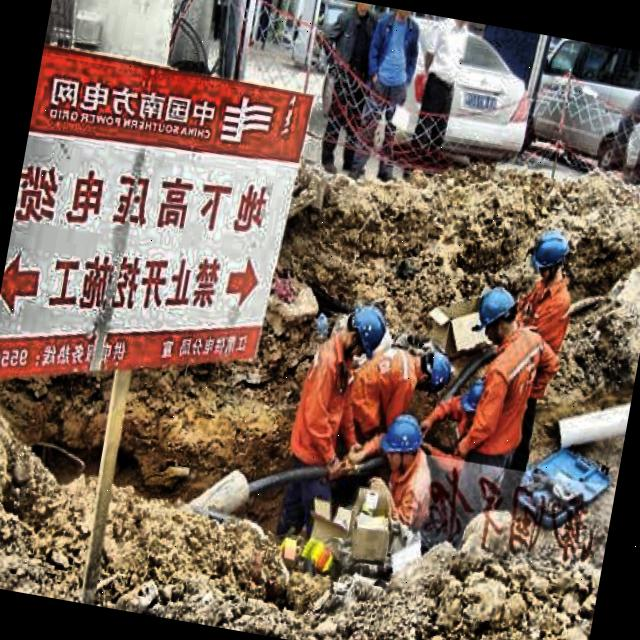helmet: (330, 302, 390, 366), (378, 409, 427, 476), (470, 279, 520, 342), (528, 221, 576, 285), (408, 344, 454, 396)
